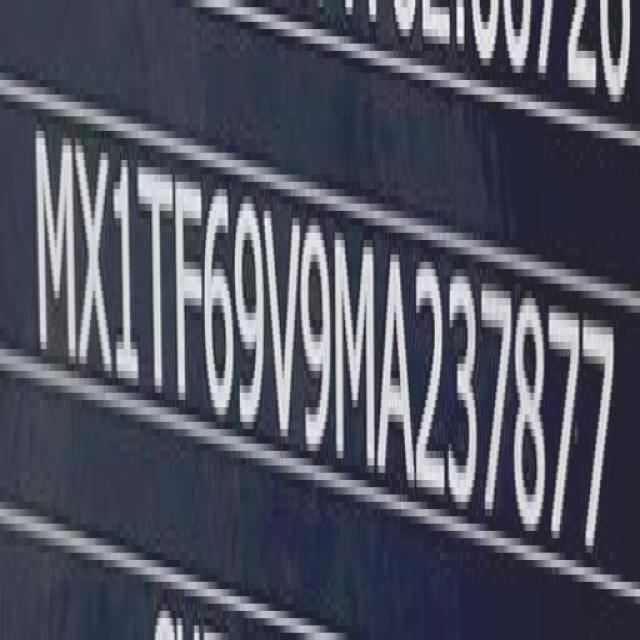1: (111, 145, 139, 388)
2: (416, 250, 449, 514)
3: (448, 267, 481, 517)
6: (203, 180, 237, 437)
7: (583, 308, 620, 594), (481, 271, 514, 539), (548, 298, 580, 565)
8: (514, 292, 550, 548)
9: (298, 207, 333, 469), (236, 178, 266, 447)
A: (379, 241, 419, 504)
F: (174, 164, 203, 412)
M: (334, 220, 379, 490), (31, 111, 74, 383)
T: (141, 146, 178, 413)
V: (264, 199, 300, 450)
X: (76, 128, 117, 398)
